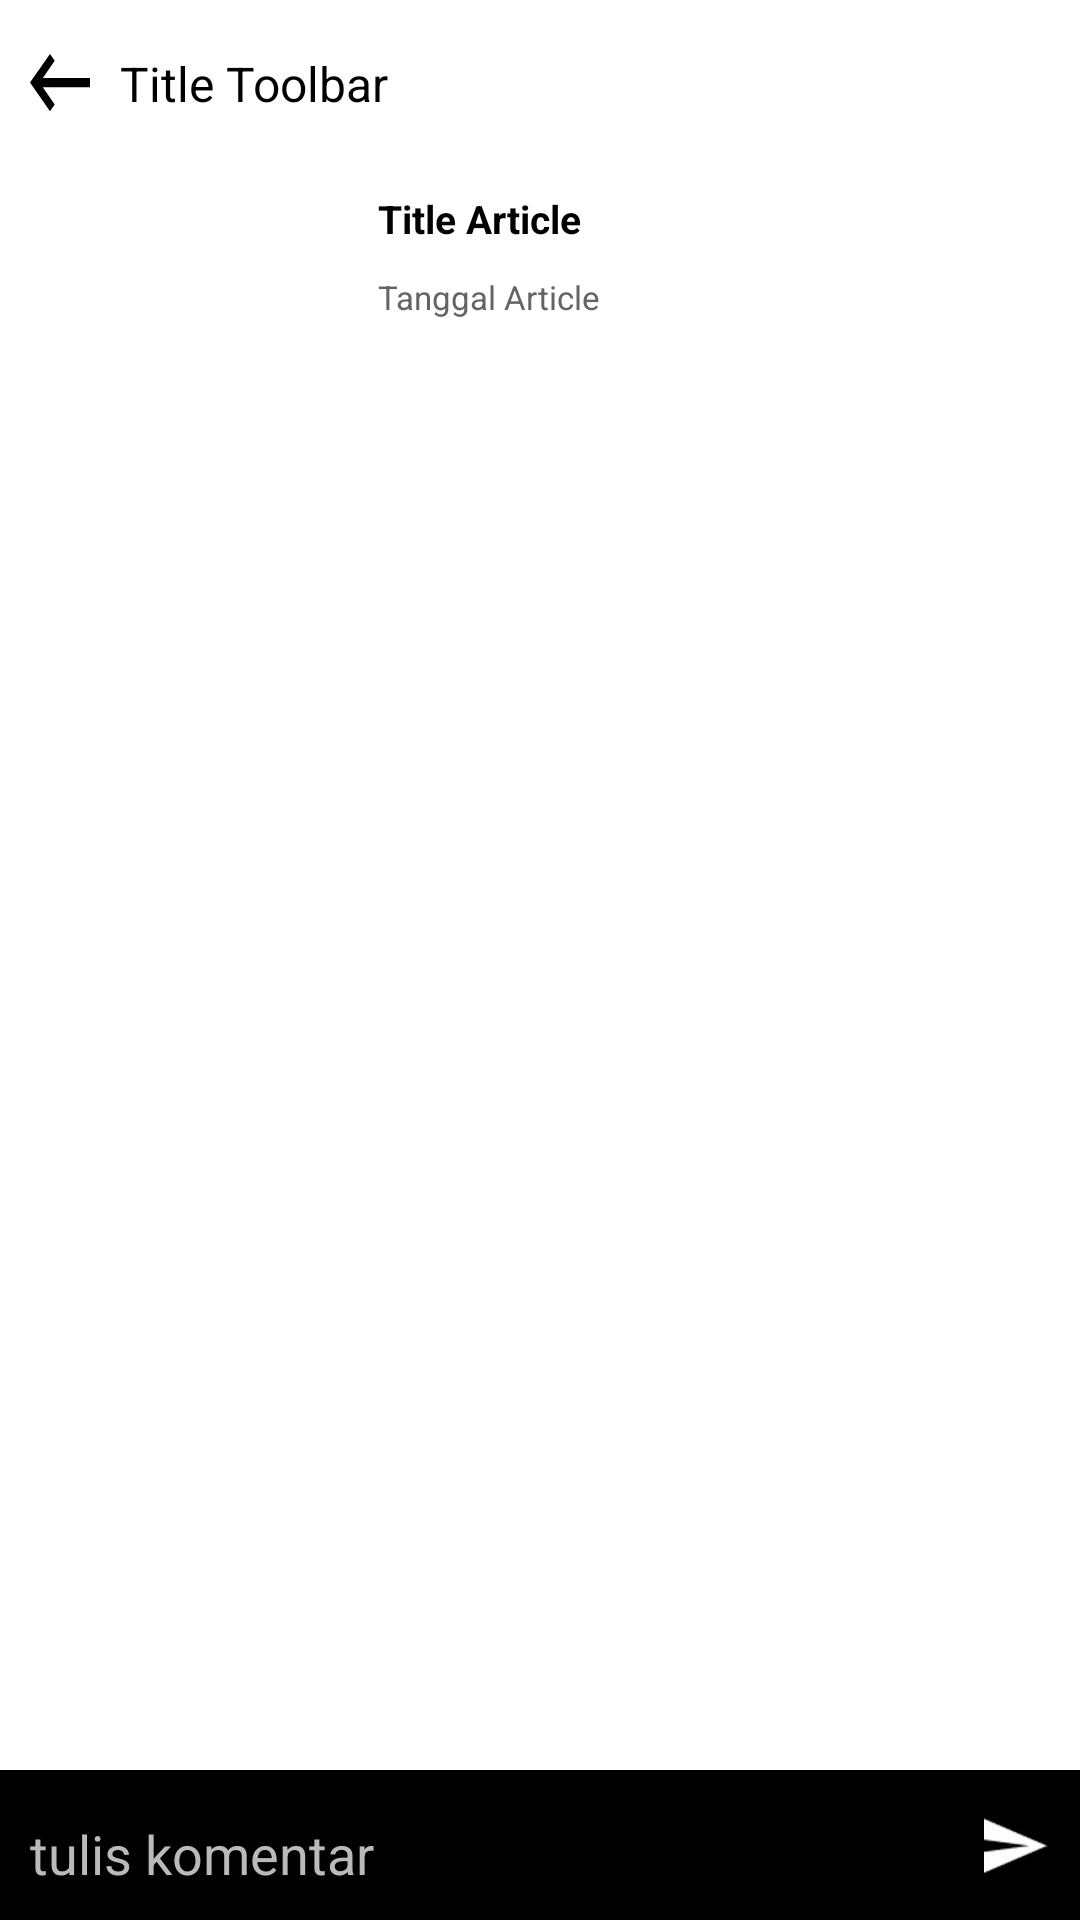

Screen size 1080*1920. Icon name, then its center in pixels as (x,y):
arrow back: (60,82)
send: (1015,1845)
